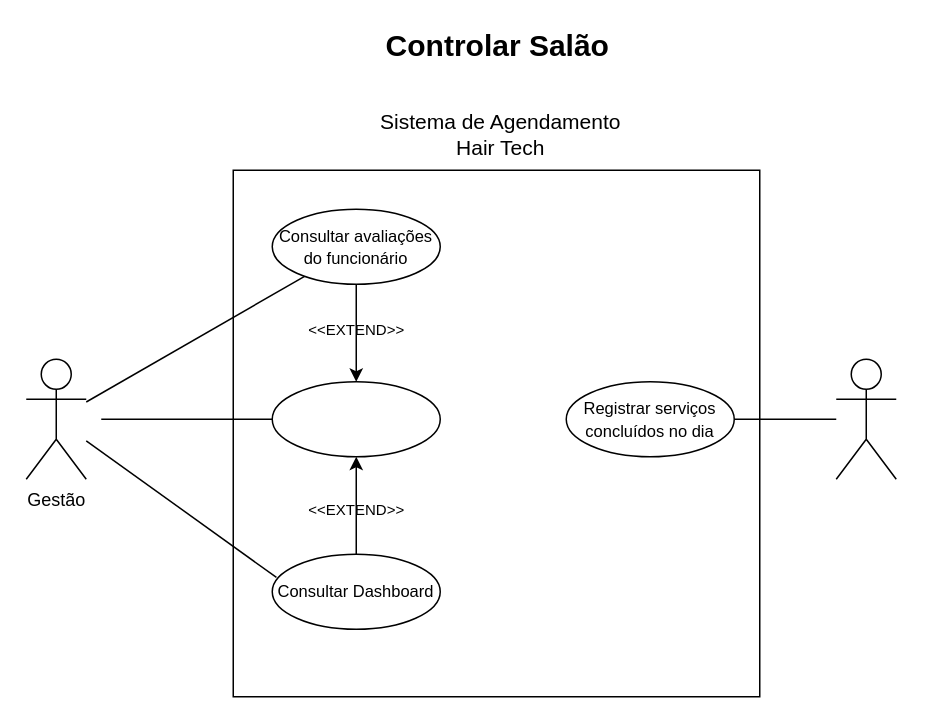
The diagram is 941 pixels wide and 723 high, and some of its shapes have lost their labels. The centre of each missing label's shape, as x and y in pixels:
Cabeleireiro: (865,418)
Consultar agenda dos funcionários: (355,418)
